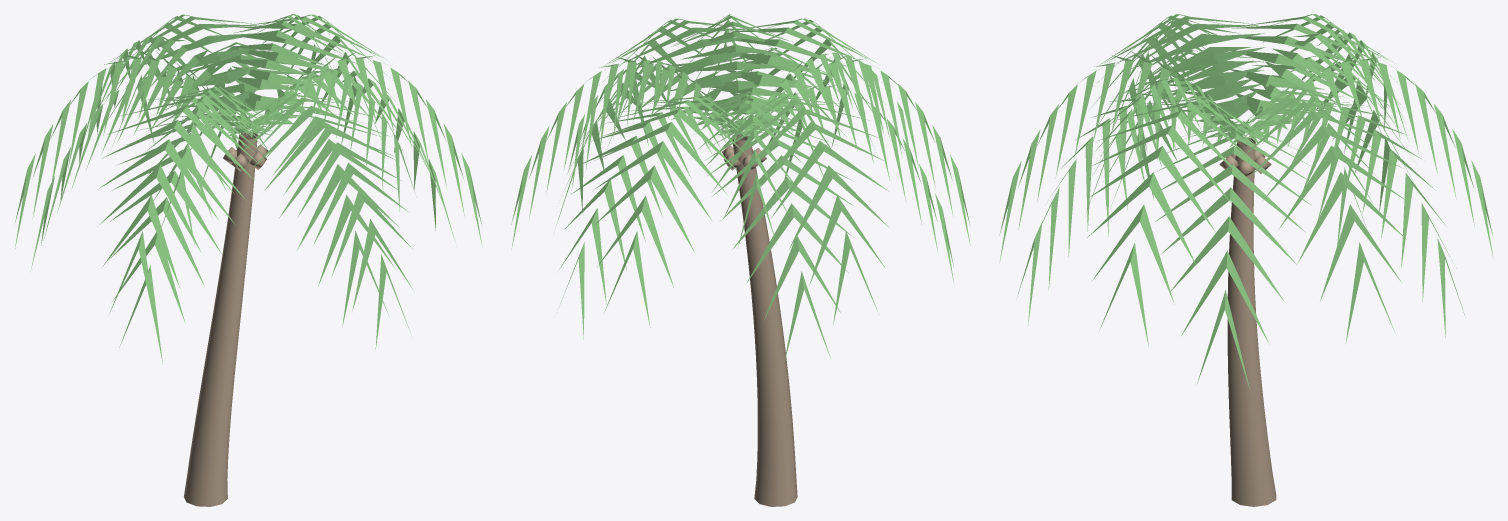
The model's file is palmera_caribe_hd.glb.
3 views of the same model, side by side, from view 1: azimuth 30°, elevation 25°; view 2: azimuth 150°, elevation 25°; view 3: azimuth 270°, elevation 25° (orthographic). The views are drawn at different scales.
Visible parts, largest first — view 1: PalmeraCaribeHD; view 2: PalmeraCaribeHD; view 3: PalmeraCaribeHD.
Part boxes in pixels (x1=…): PalmeraCaribeHD: x1=15, y1=14, x2=482, y2=506; PalmeraCaribeHD: x1=511, y1=14, x2=970, y2=506; PalmeraCaribeHD: x1=999, y1=14, x2=1493, y2=506.
Bounding box in the file's own units: 0.5115 × 0.5666 × 0.5496.
